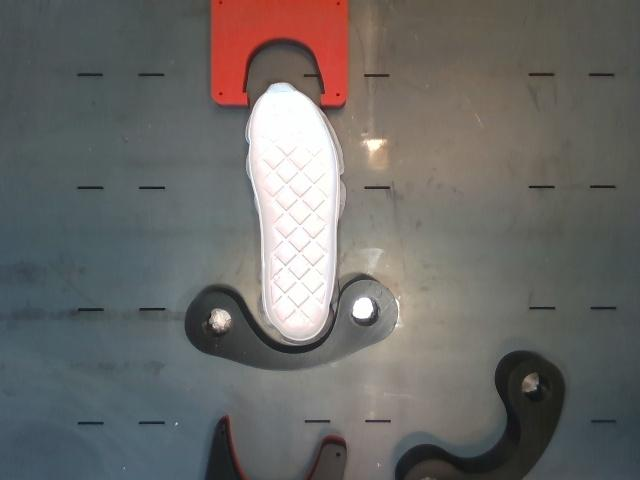shoes: (251, 84, 337, 340)
